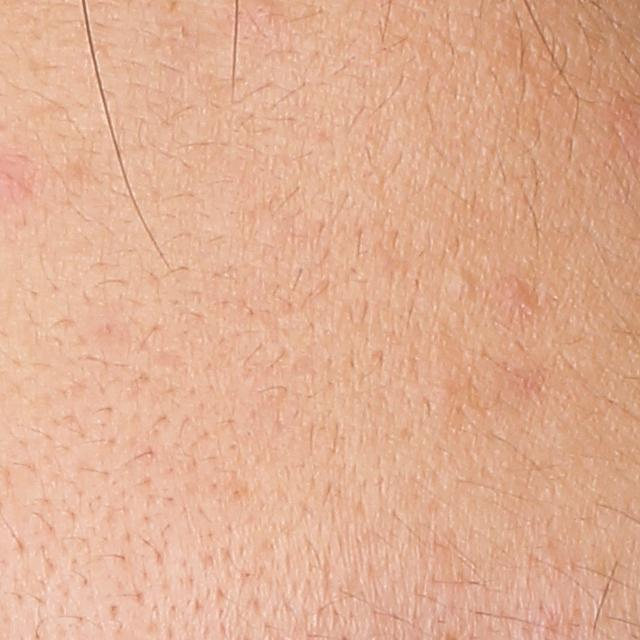comedo: (448, 267, 476, 298)
